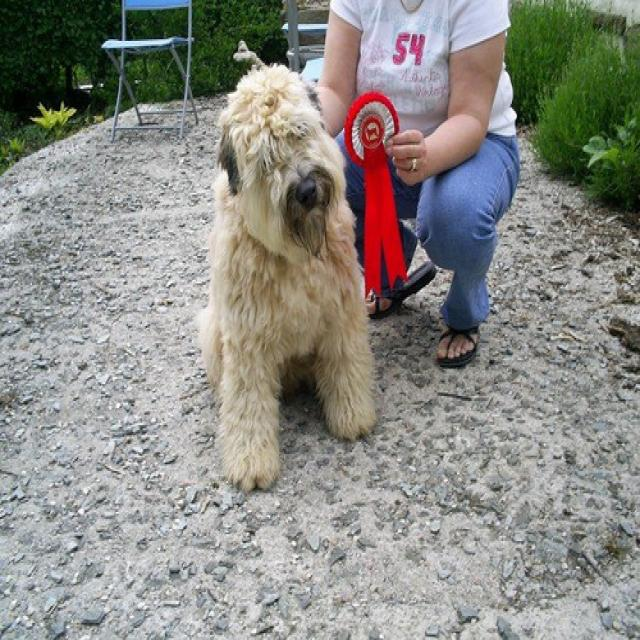dog-wheaten_terrier: (188, 51, 384, 500)
